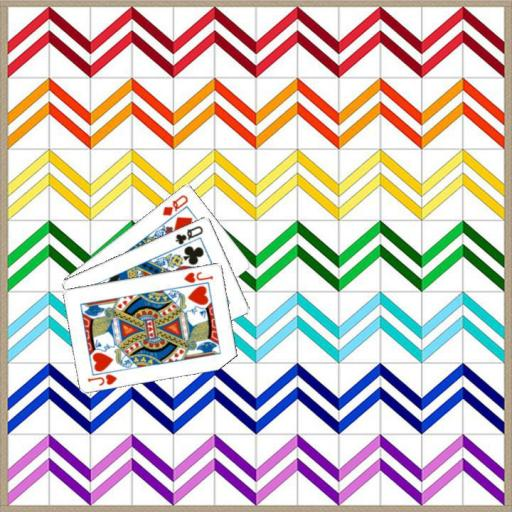JH: (85, 370, 118, 387), (181, 268, 215, 284)
QC: (172, 222, 205, 246)
QD: (159, 191, 190, 217)
